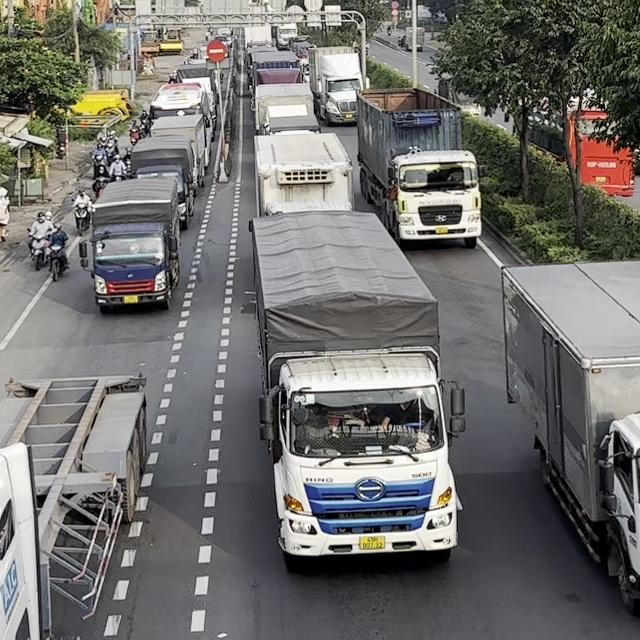motorcycle: (45, 237, 69, 281), (27, 228, 52, 270), (70, 198, 92, 236), (91, 175, 111, 198)
truck: (247, 209, 466, 564), (500, 258, 639, 616), (0, 357, 150, 639), (356, 87, 487, 249), (78, 176, 181, 313), (252, 130, 354, 217), (131, 135, 195, 225), (307, 45, 367, 125), (251, 82, 321, 135)
